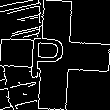P_N: (35, 29, 75, 81)
